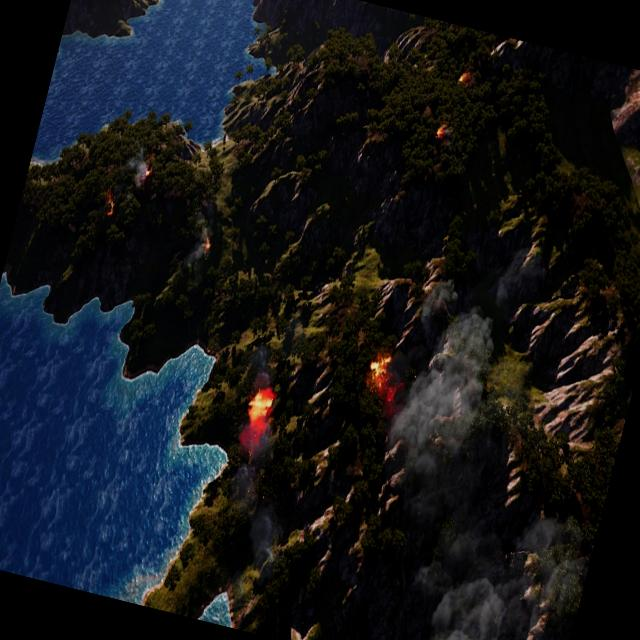fire: (359, 348, 405, 406), (244, 388, 276, 427), (102, 190, 120, 219), (457, 68, 475, 88), (433, 122, 448, 142), (140, 164, 152, 185)
smoke: (329, 264, 640, 640), (202, 343, 324, 574), (122, 141, 154, 191)
